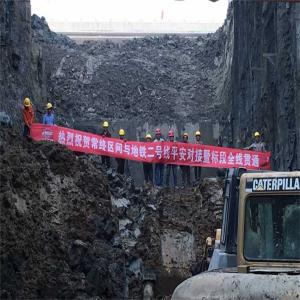red: (169, 131, 176, 142), (156, 129, 162, 140)
yellow: (24, 97, 32, 110), (119, 129, 126, 141), (103, 122, 110, 133), (47, 103, 53, 115), (183, 133, 190, 143), (255, 132, 261, 143), (147, 134, 154, 143), (196, 132, 201, 142)
